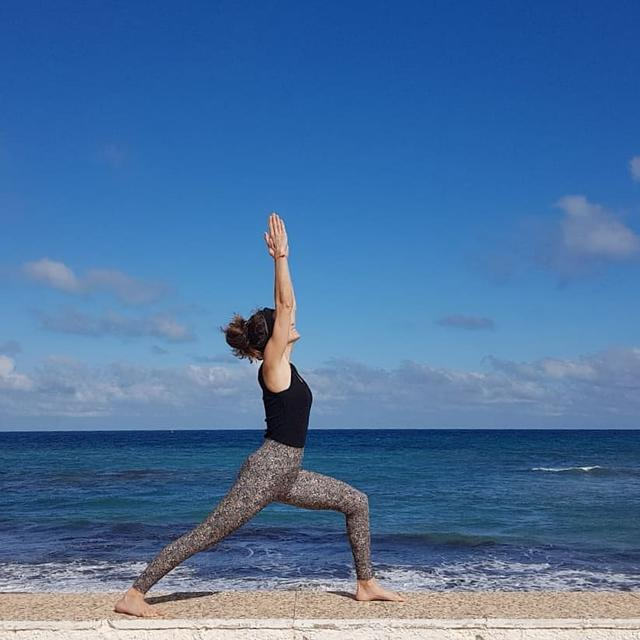Warrior_I: (105, 207, 410, 617)
